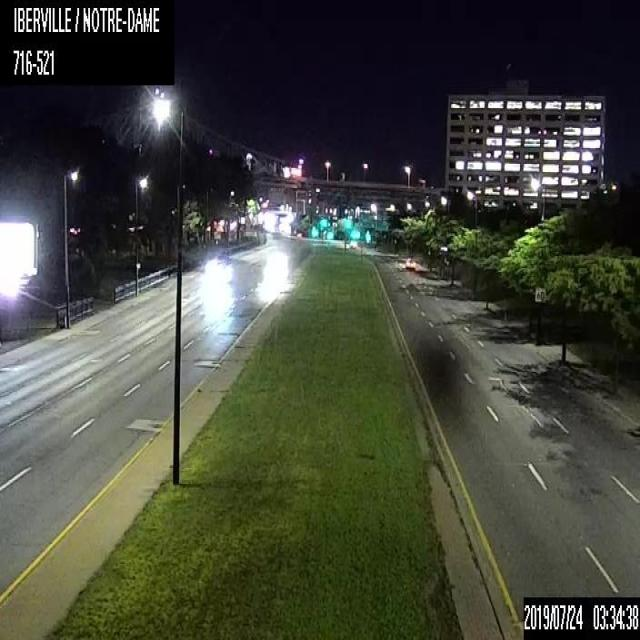vehicle: (405, 255, 415, 268), (349, 240, 356, 248)
